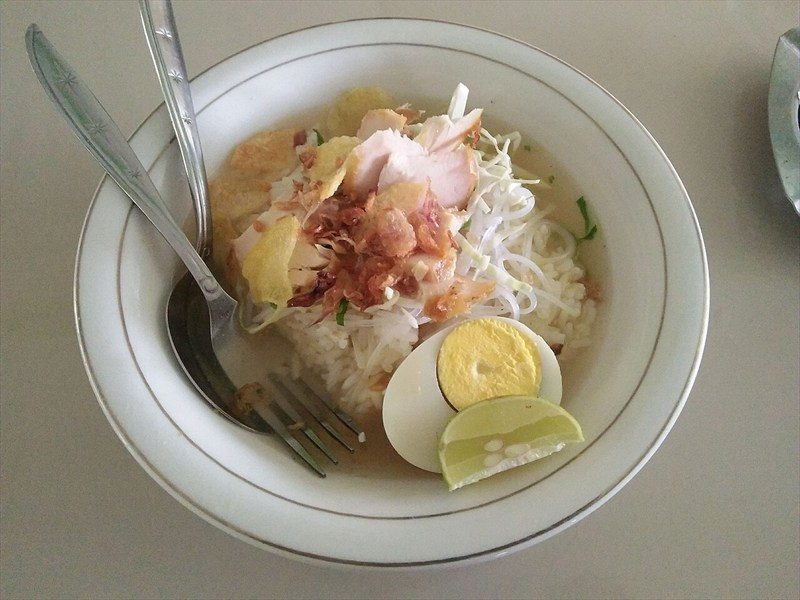Soto Ayam: (142, 94, 593, 481)
